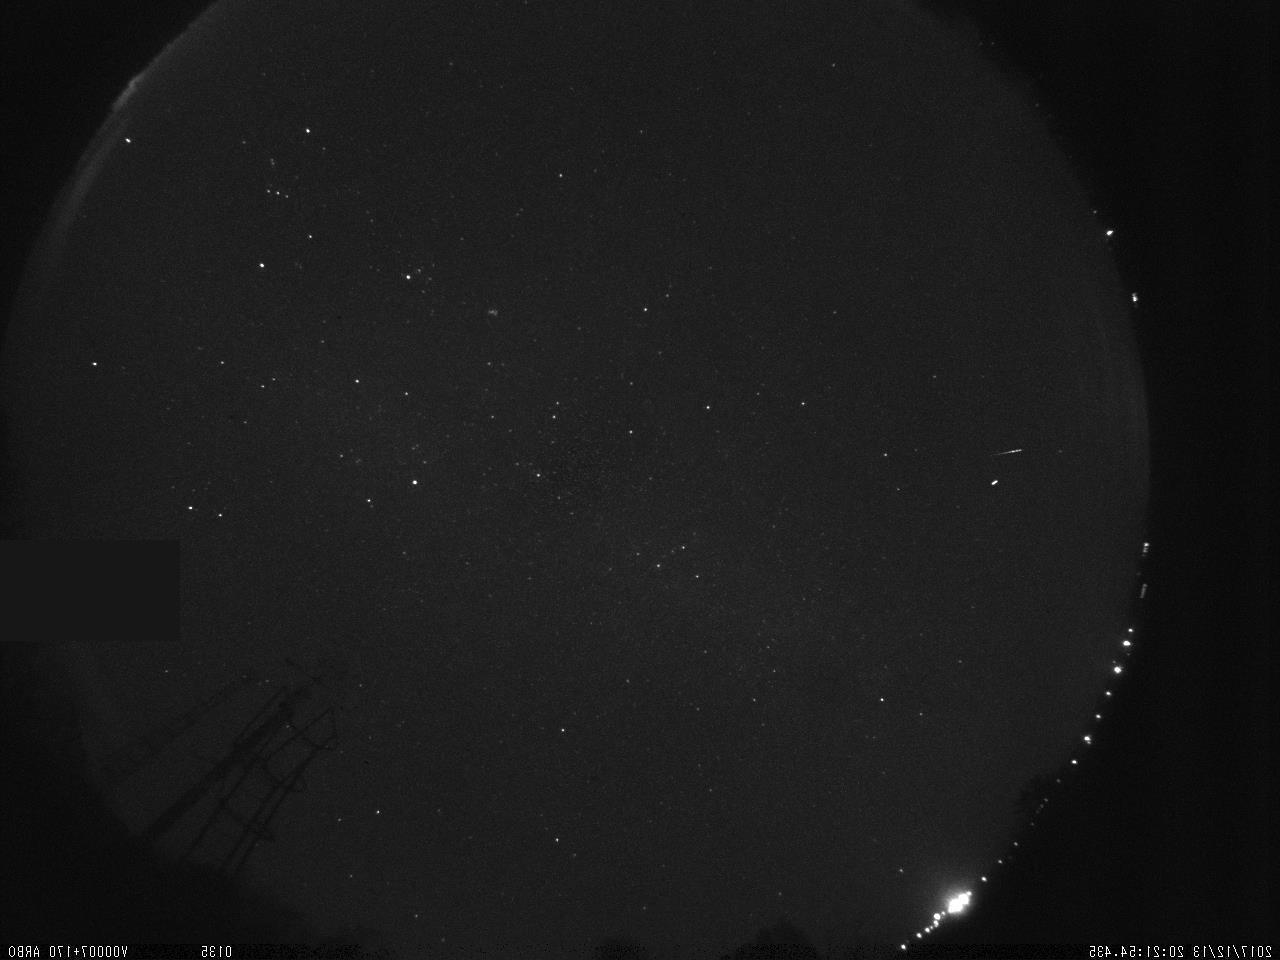meteor: (972, 425, 1033, 474)
